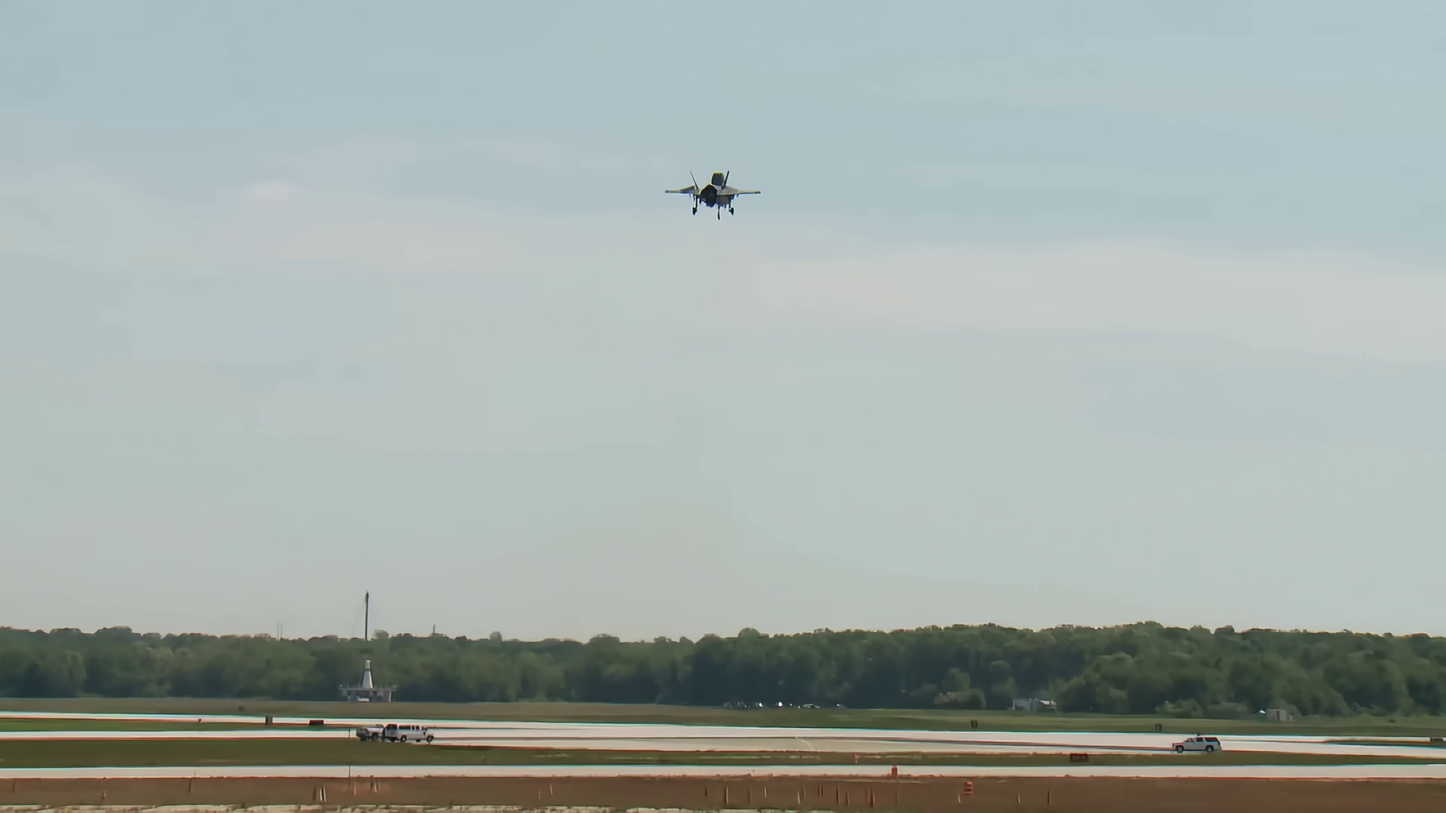F35: (663, 160, 766, 226)
